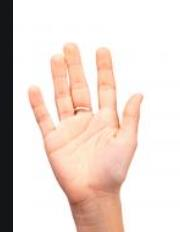down: (28, 42, 146, 204)
